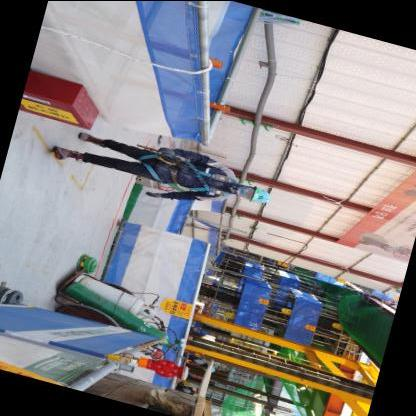safety-shoe: (39, 139, 85, 167), (73, 125, 102, 147)
